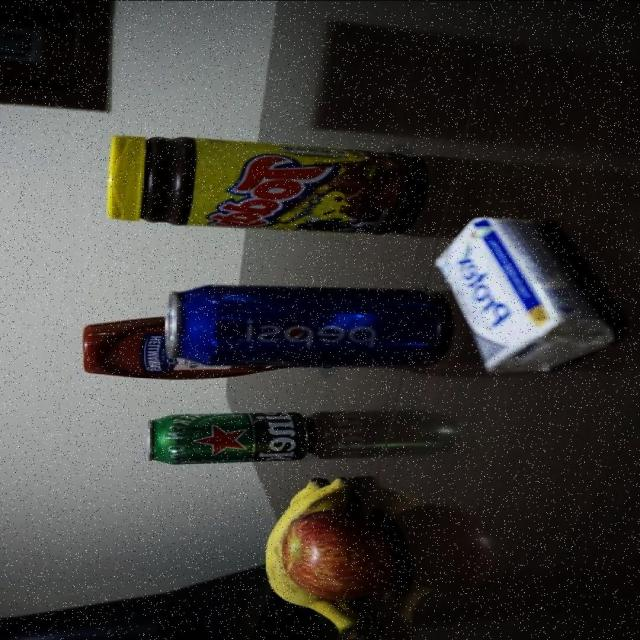Apple: (286, 514, 393, 600)
BeerCan: (146, 413, 316, 462)
ChocolatePowder: (107, 133, 407, 236)
Ketchup: (81, 316, 162, 379)
Soap: (433, 216, 616, 374)
SodaCan: (168, 286, 426, 368)
